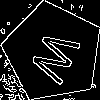W: (28, 27, 90, 91)
